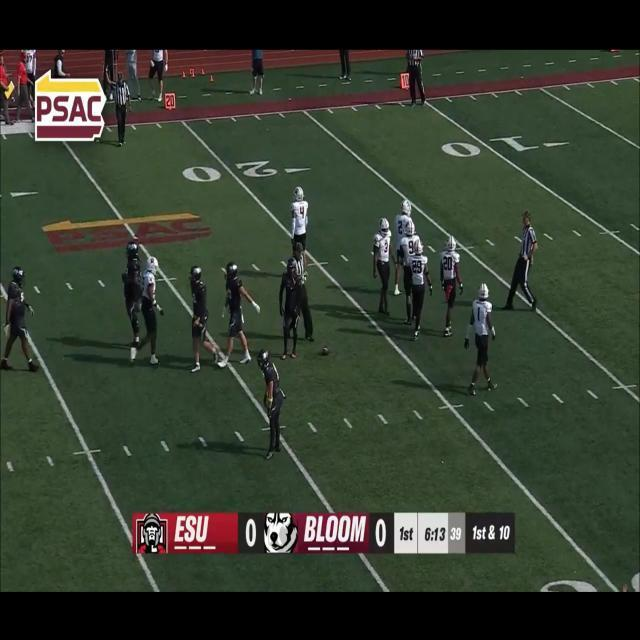football: (320, 345, 330, 357)
